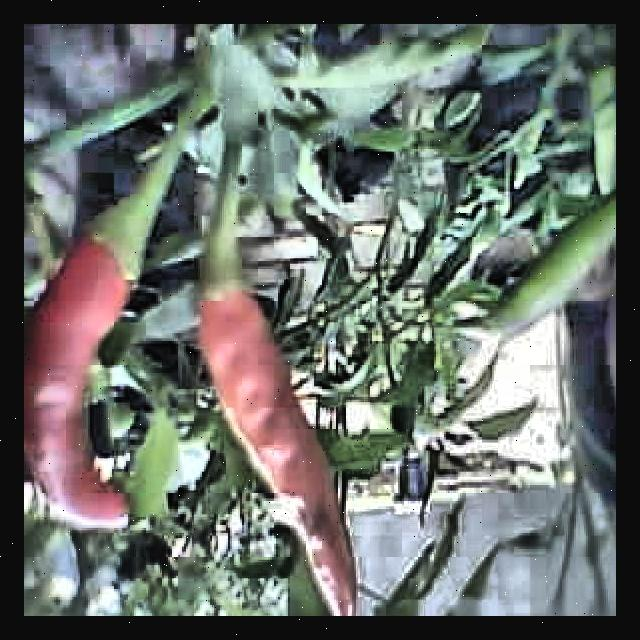Cabai: (208, 261, 386, 616), (24, 195, 170, 539)
